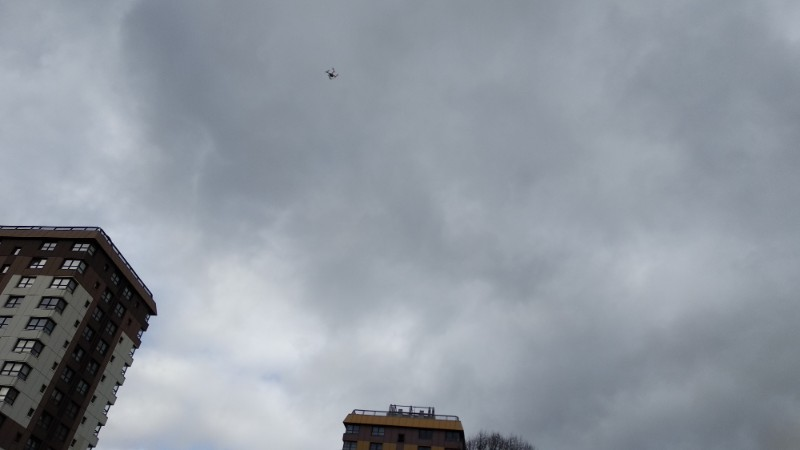drone: (326, 67, 339, 80)
